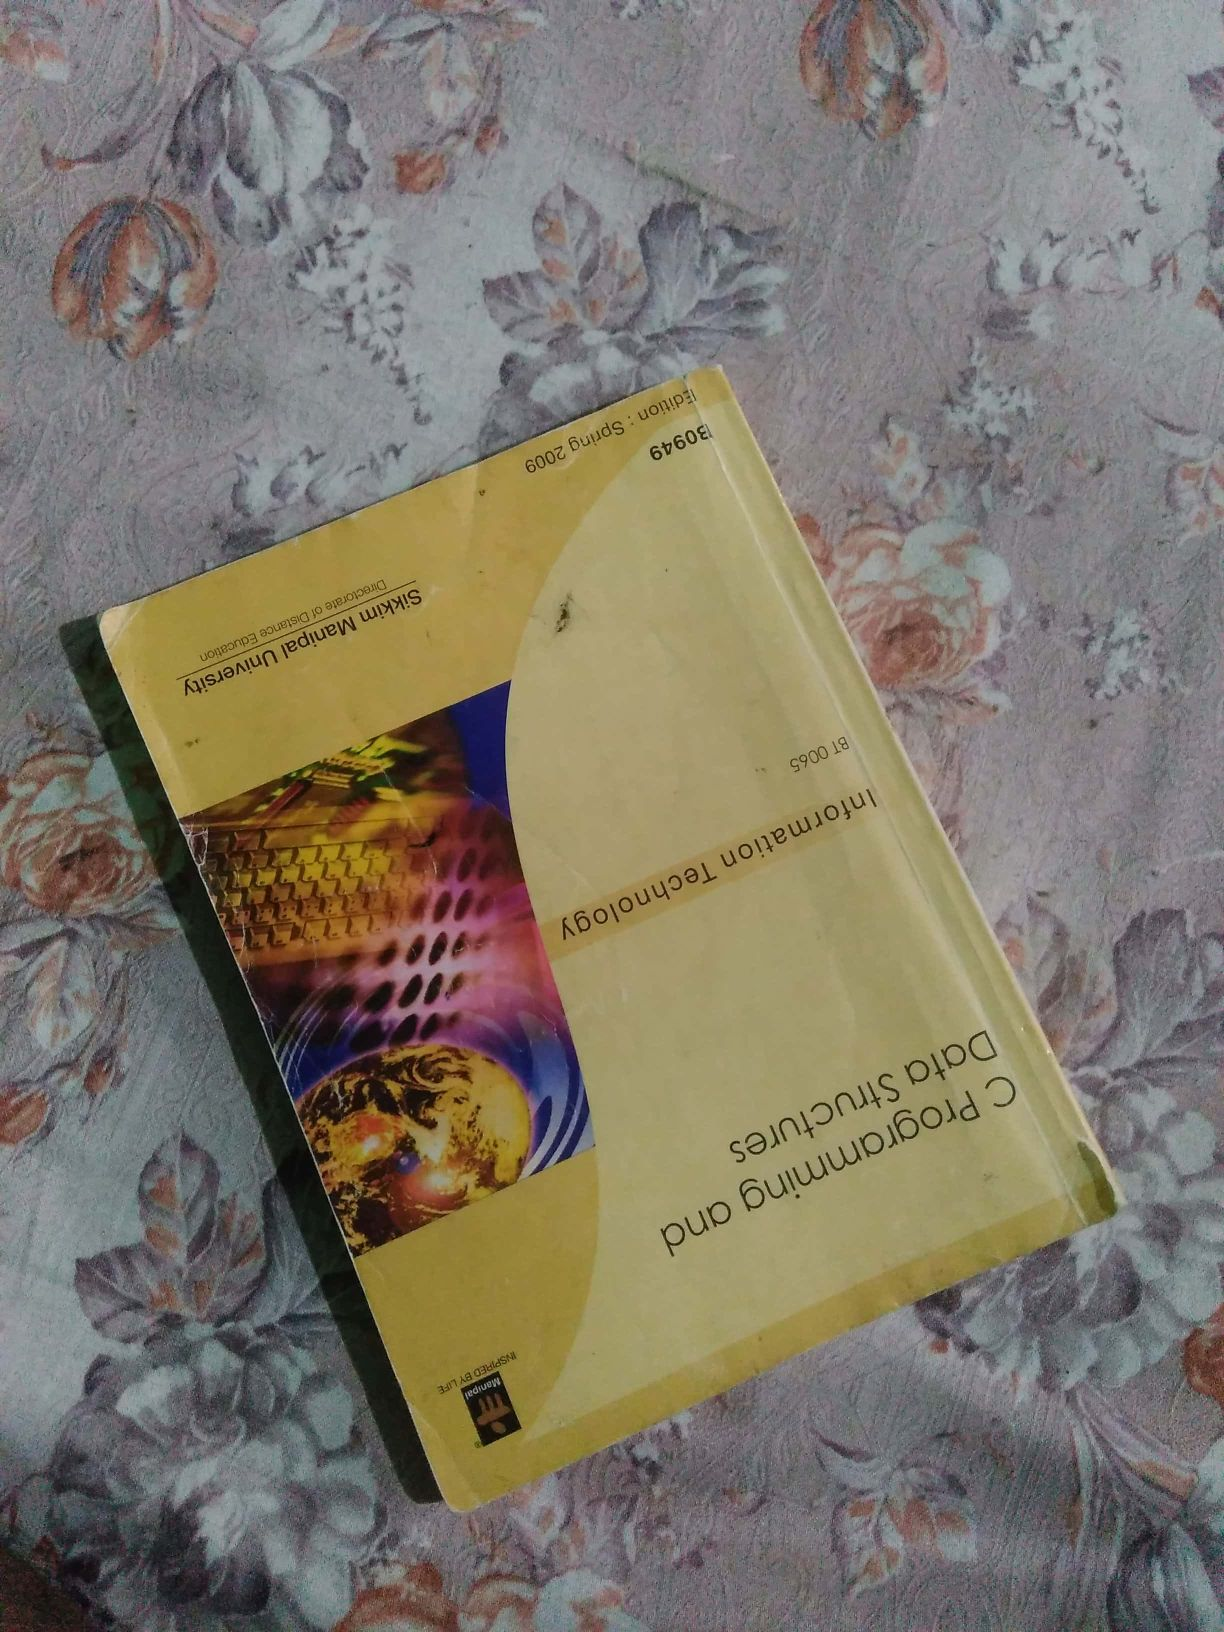clang: (87, 421, 1151, 1437)
